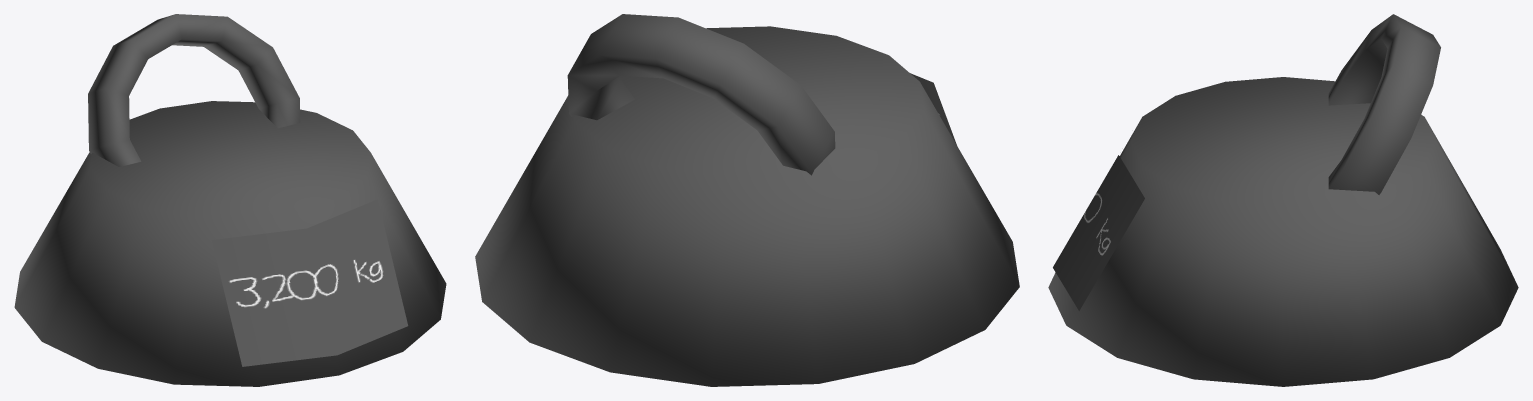
Rendered from Weight.fbx.
3 views of the same model, side by side, from view 1: azimuth 30°, elevation 25°; view 2: azimuth 150°, elevation 25°; view 3: azimuth 270°, elevation 25° (orthographic). The views are drawn at different scales.
Visible parts, largest first — view 1: Circle; view 2: Circle; view 3: Circle.
Boxes of the visible parts, <box> form: Circle: <box>14,14,446,386</box>; Circle: <box>475,14,1019,386</box>; Circle: <box>1048,14,1518,386</box>.
Bounding box in the file's own units: 100 × 61.21 × 100.
